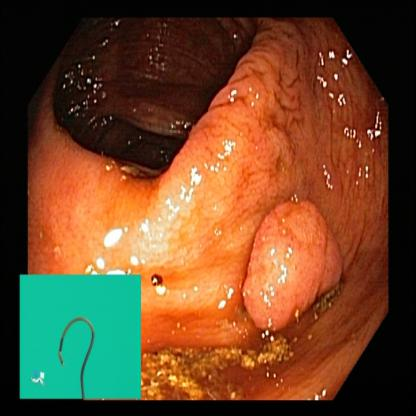Labels: (20, 270, 140, 400)
Polyps: (241, 189, 349, 336)
